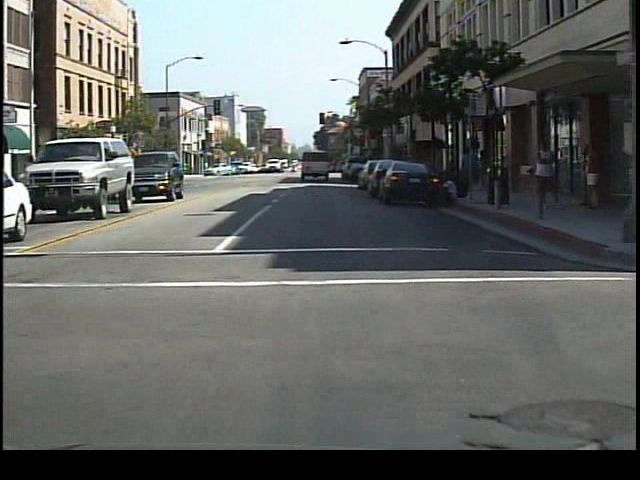person: (527, 132, 562, 223), (458, 142, 480, 200)
